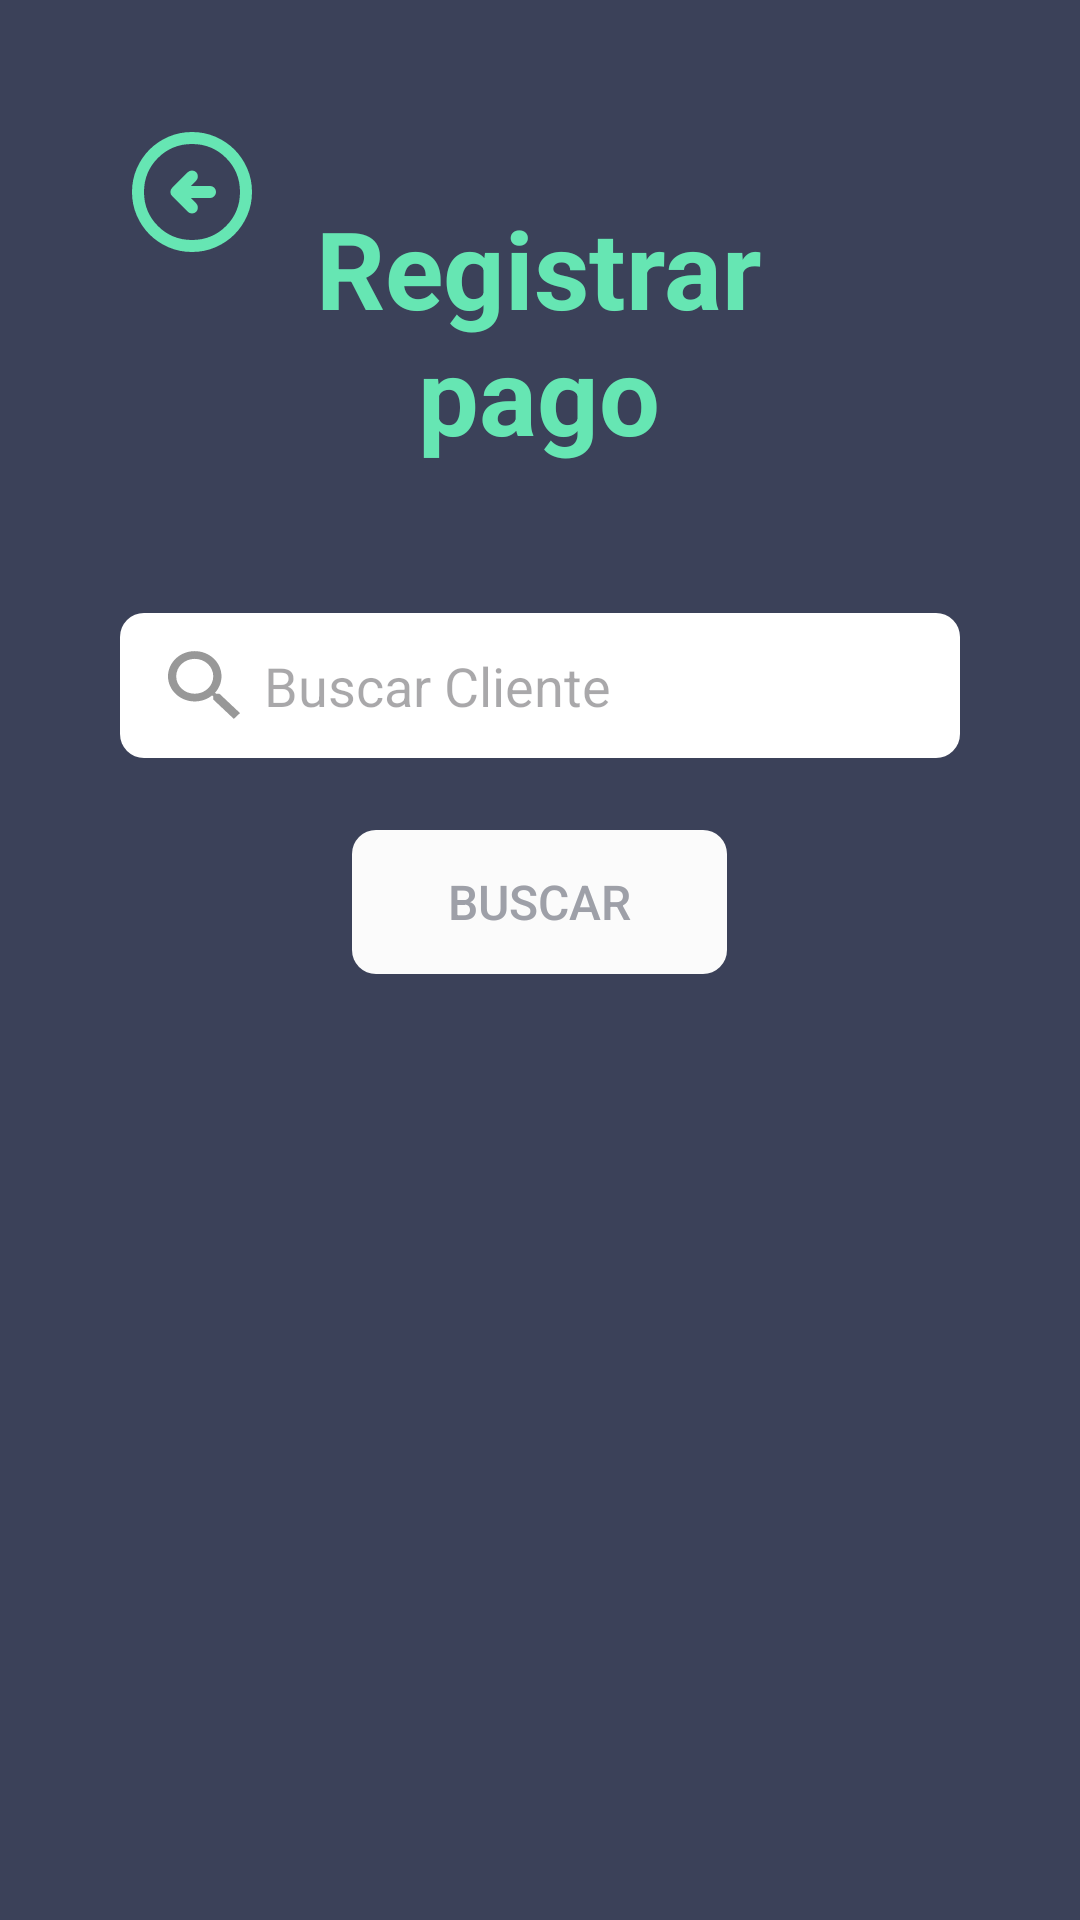

Icons on this 1080x1920 Android screen, each with the point to tap as point (x, y):
search: point (204, 685)
